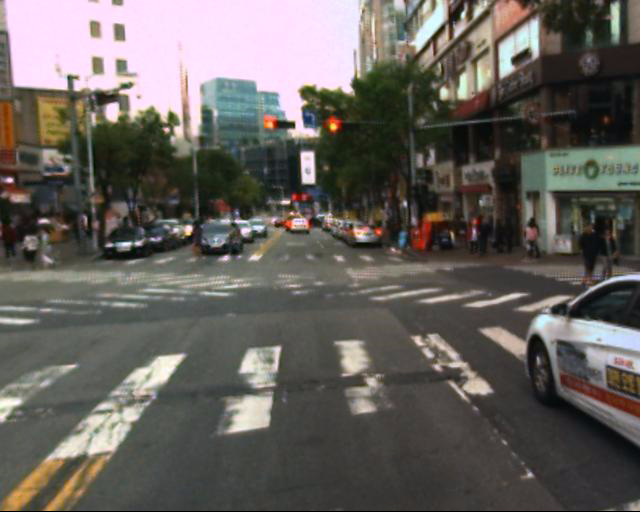person: (435, 217, 532, 277), (179, 222, 218, 270), (597, 216, 622, 285), (220, 224, 259, 267), (26, 221, 54, 276), (580, 219, 600, 285)
